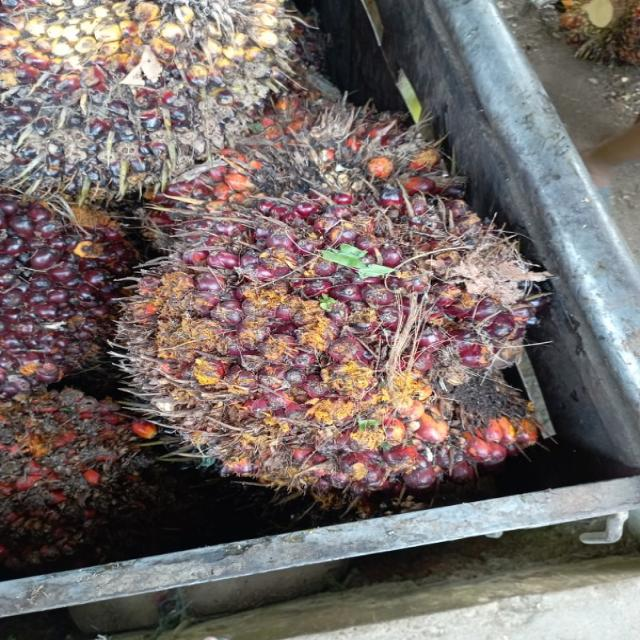fraksi 00: (0, 0, 309, 195)
fraksi 1: (121, 192, 548, 492)
